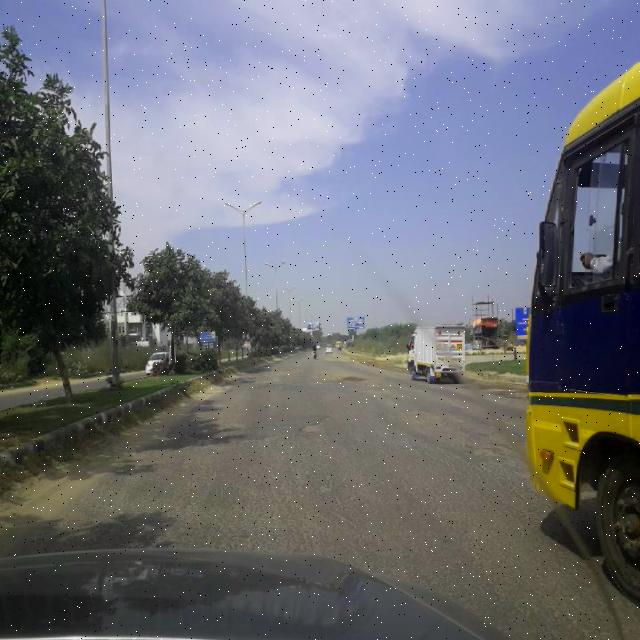D20: (101, 408, 532, 556)
D40: (402, 399, 514, 463), (294, 410, 332, 439)
